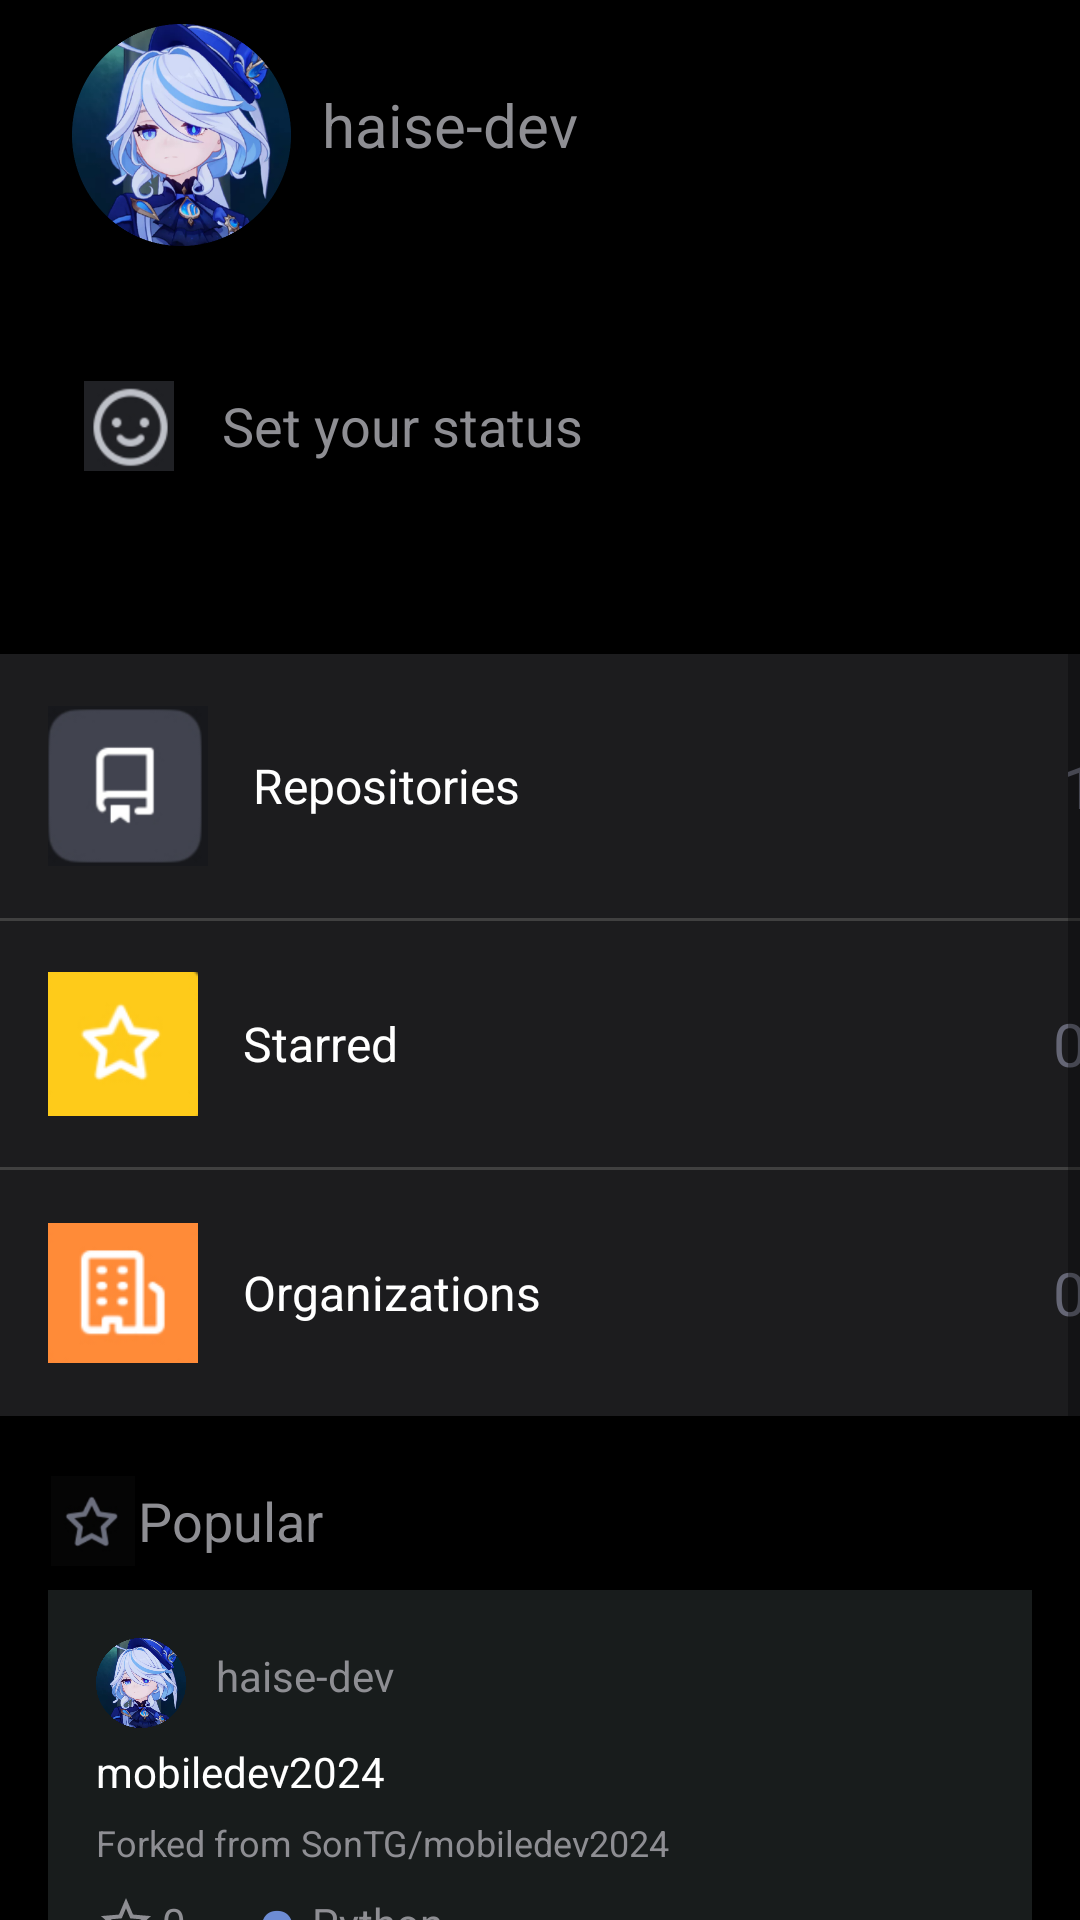

Icons on this 1080px x 1920px Android screen, each with its box as BBox(x1, y1, x2, y2):
smile: BBox(84, 381, 174, 471)
star: BBox(66, 1497, 118, 1546)
